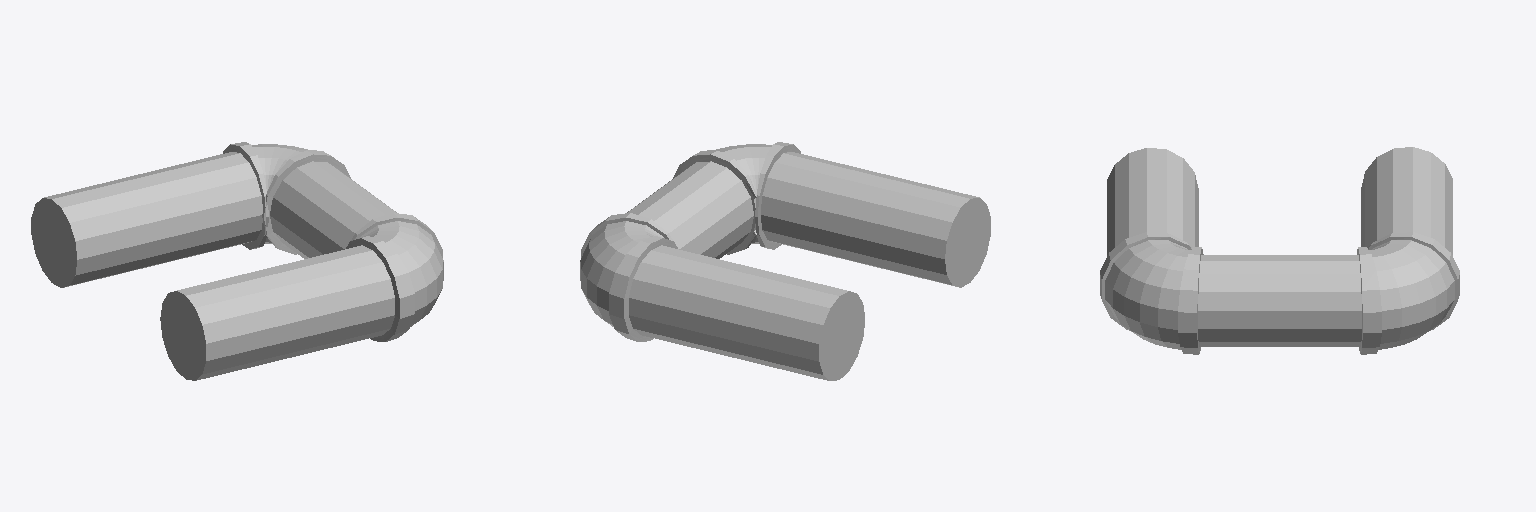
The model's file is Pipe2.obj.
The picture shows the model from 3 angles: view 1: azimuth 30°, elevation 25°; view 2: azimuth 150°, elevation 25°; view 3: azimuth 270°, elevation 25°; orthographic projection.
Visible parts, largest first — view 1: First_Pipe; view 2: First_Pipe; view 3: First_Pipe.
Part boxes in pixels (left/top/right/bottom): First_Pipe: left=31, top=142, right=443, bottom=380; First_Pipe: left=580, top=142, right=990, bottom=380; First_Pipe: left=1100, top=147, right=1459, bottom=354.
Bounding box in the file's own units: 85.6 × 28.84 × 96.95.